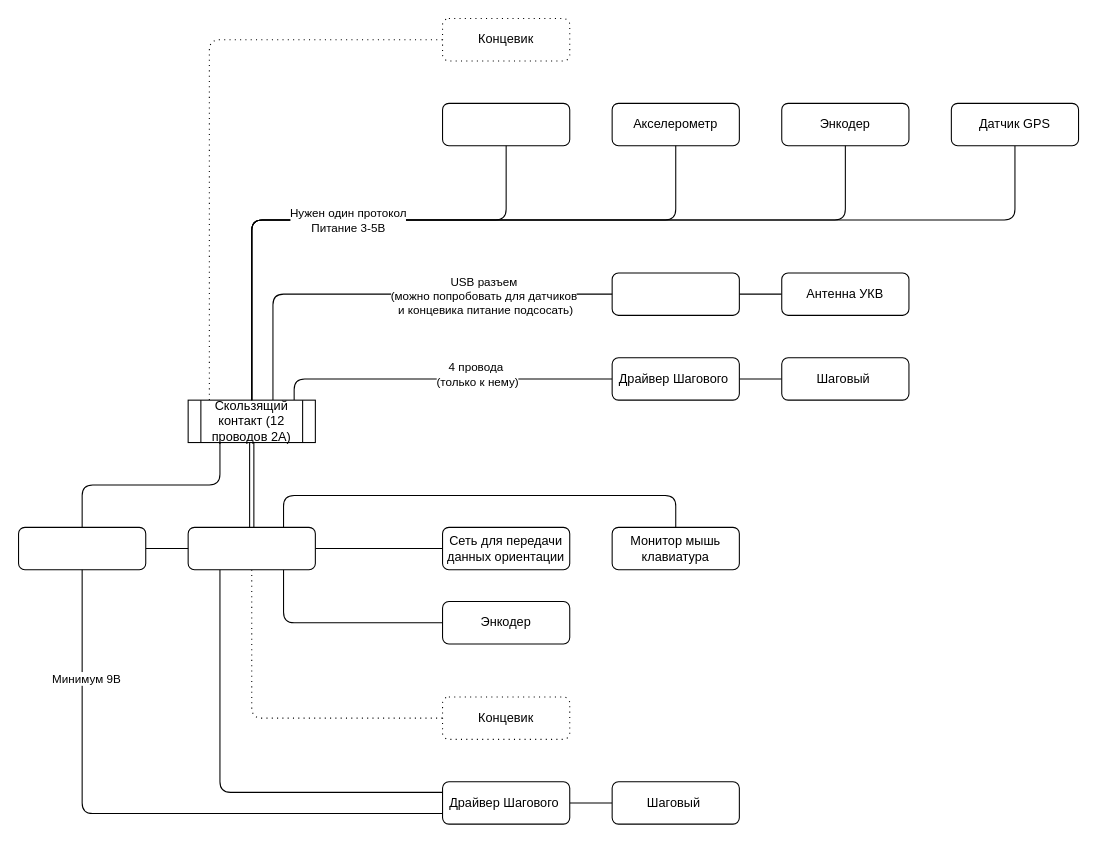
Image size: 1097x843. Some labels were removed from this diagram. The box of each missing label's shape, as (x1, y1, x2, y2) in pixels:
Raspbery Pi: (187, 526, 315, 570)
RTL-SDR: (611, 272, 739, 315)
Компас: (441, 102, 570, 146)
Питание (надо конкретно прописать): (17, 526, 146, 570)
